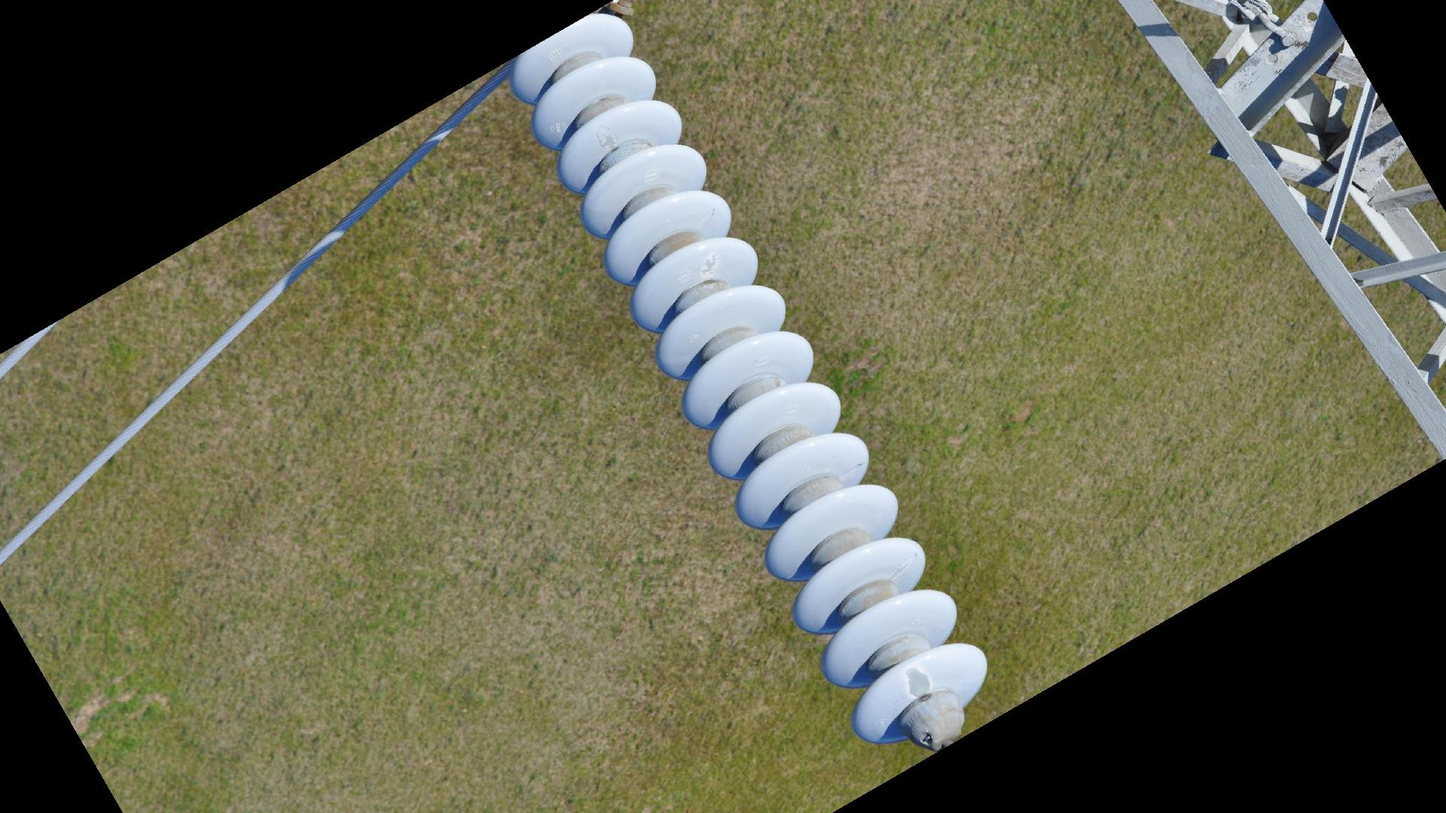insulator: (505, 1, 992, 753)
insulator_flashover: (902, 664, 934, 700), (886, 553, 917, 583), (593, 123, 621, 153), (697, 248, 721, 281)
